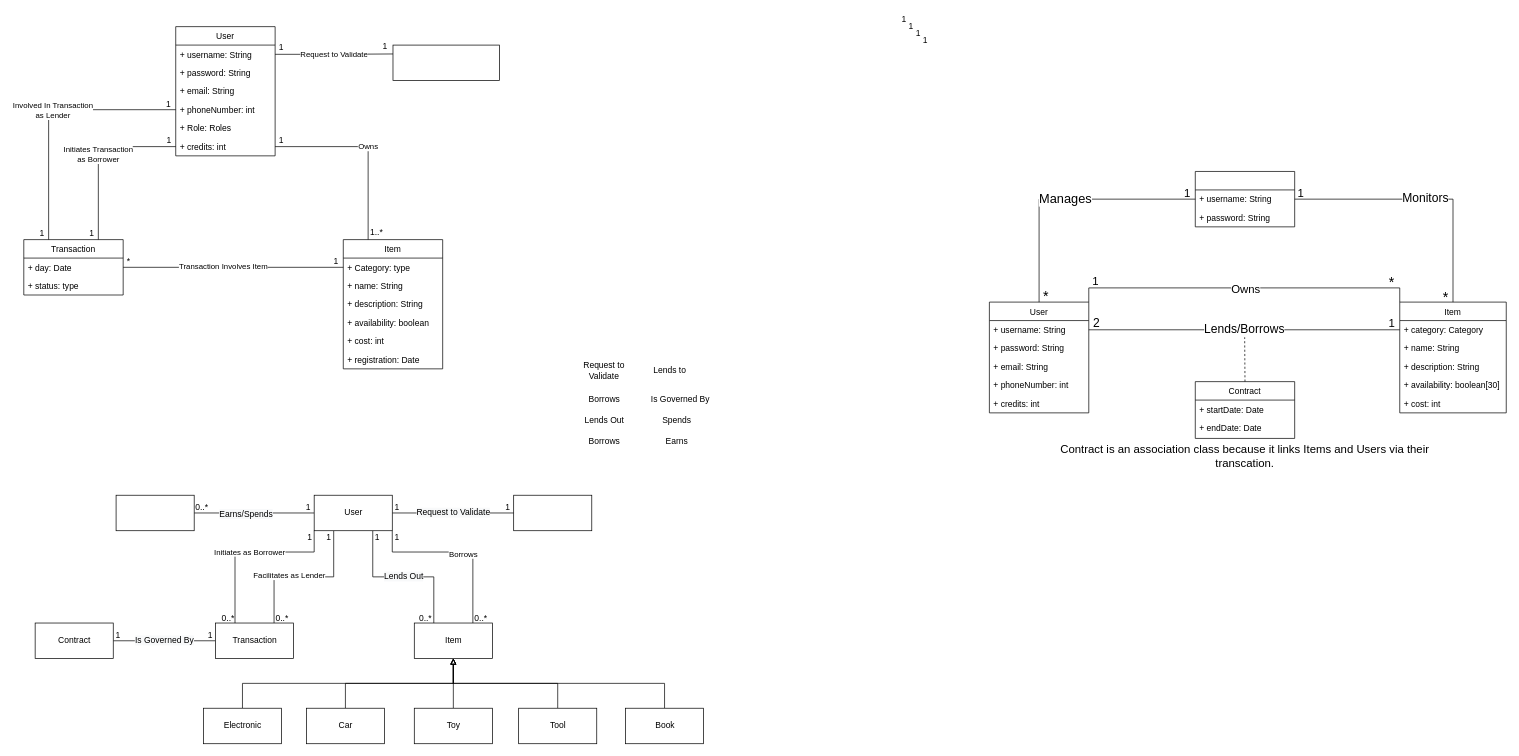
This 1519x756 diagram has some shape labels left out. The shapes that lost their labels are listed below. From the top down, each one's box as (x1, y1, x2, y2) in pixels, then its label:
(392, 44, 499, 81): MemberValidationService
(1195, 171, 1295, 227): Admin
(115, 495, 194, 531): Credit
(513, 495, 592, 531): Identity Verification
